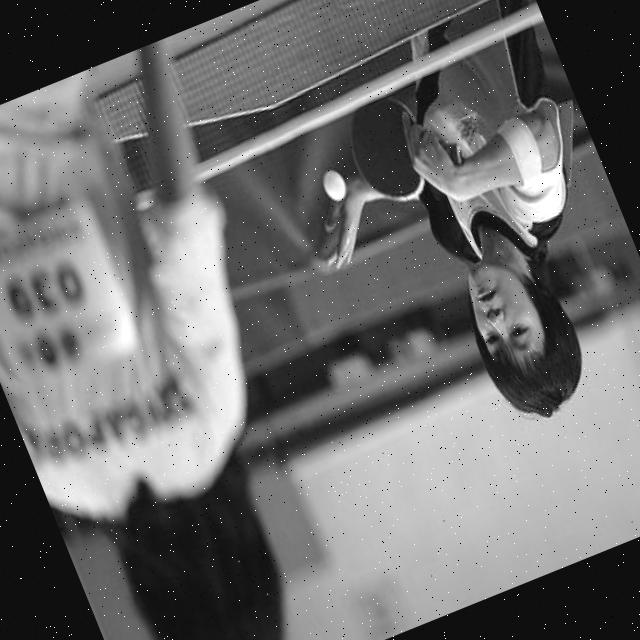ping-pong-ball: (318, 167, 352, 206)
